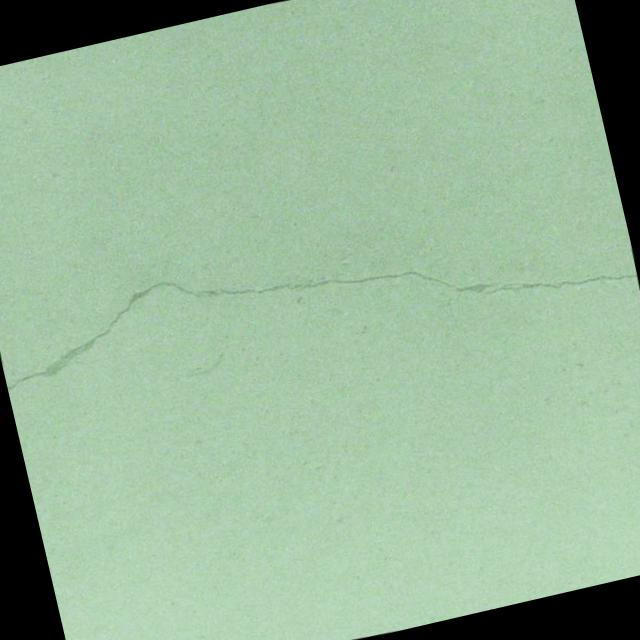crack: (0, 171, 638, 422)
